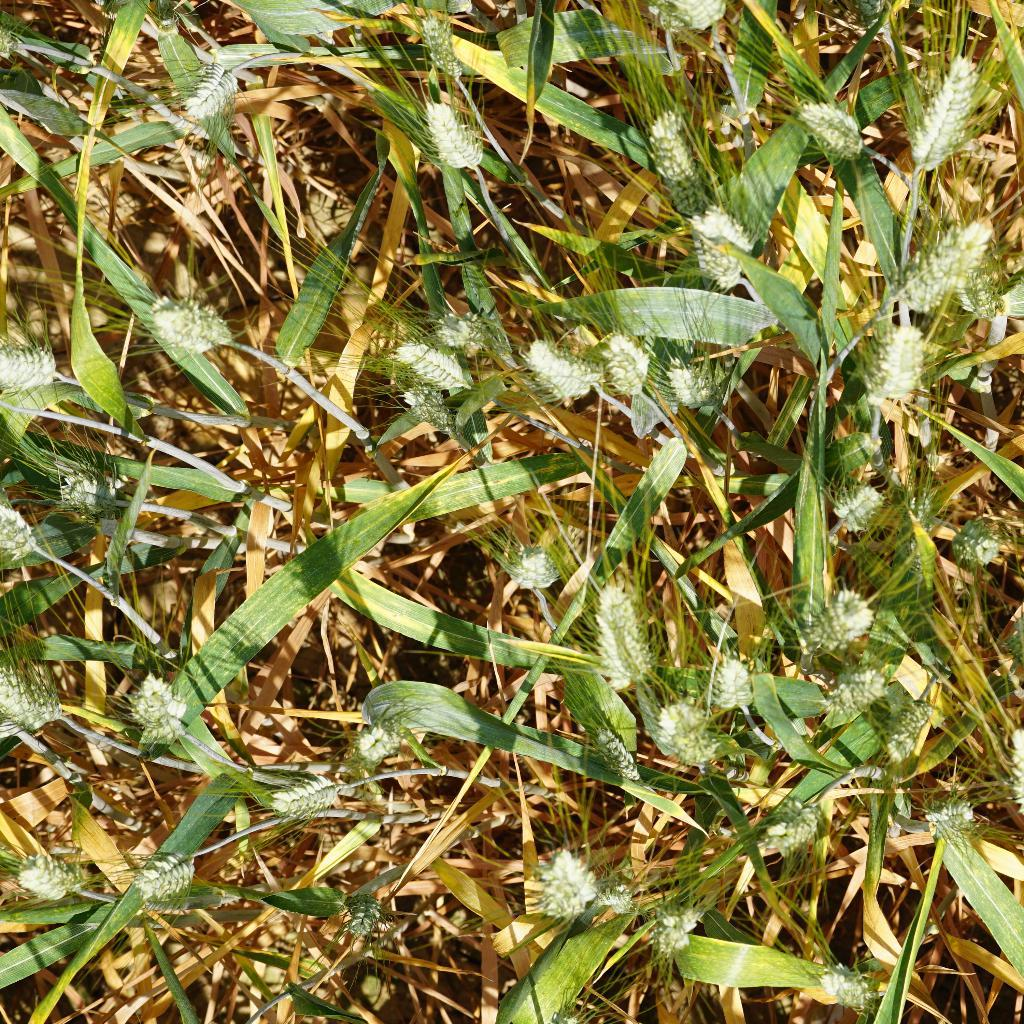0-0: (881, 201, 997, 303), (901, 48, 989, 176), (841, 295, 927, 419), (141, 287, 254, 369), (587, 572, 660, 690), (684, 195, 762, 286), (526, 836, 600, 927), (568, 716, 660, 789), (402, 7, 475, 98), (511, 332, 602, 403), (636, 690, 728, 759), (421, 92, 493, 179), (373, 336, 473, 397), (785, 959, 890, 1017), (0, 671, 90, 735), (6, 843, 89, 912), (639, 897, 713, 974), (643, 108, 713, 187), (591, 321, 656, 406), (175, 53, 240, 137), (497, 530, 570, 604), (335, 706, 417, 770), (0, 501, 64, 582), (52, 462, 138, 520), (661, 347, 727, 421), (800, 587, 877, 650), (264, 763, 346, 822), (331, 882, 387, 968), (134, 840, 204, 908), (123, 677, 193, 744), (740, 796, 825, 851), (811, 656, 882, 721), (878, 699, 940, 773), (694, 650, 761, 718), (793, 96, 865, 159), (400, 379, 467, 446), (823, 471, 886, 542), (984, 720, 1024, 831), (925, 783, 994, 847), (896, 482, 935, 591), (0, 341, 74, 396), (948, 515, 1011, 570), (658, 0, 731, 45), (423, 306, 489, 355), (998, 722, 1024, 840), (594, 878, 649, 929)
